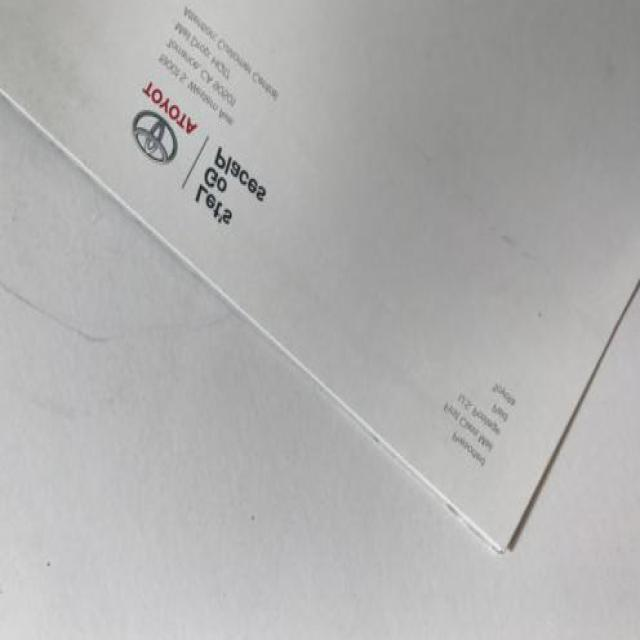kertas: (0, 0, 640, 563)
